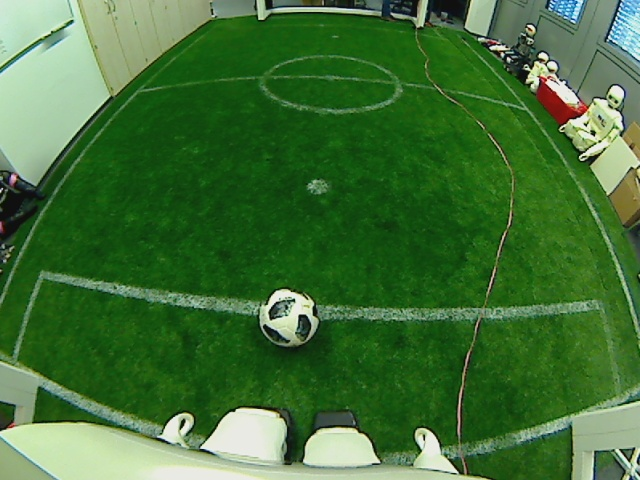ball: (255, 286, 322, 352)
